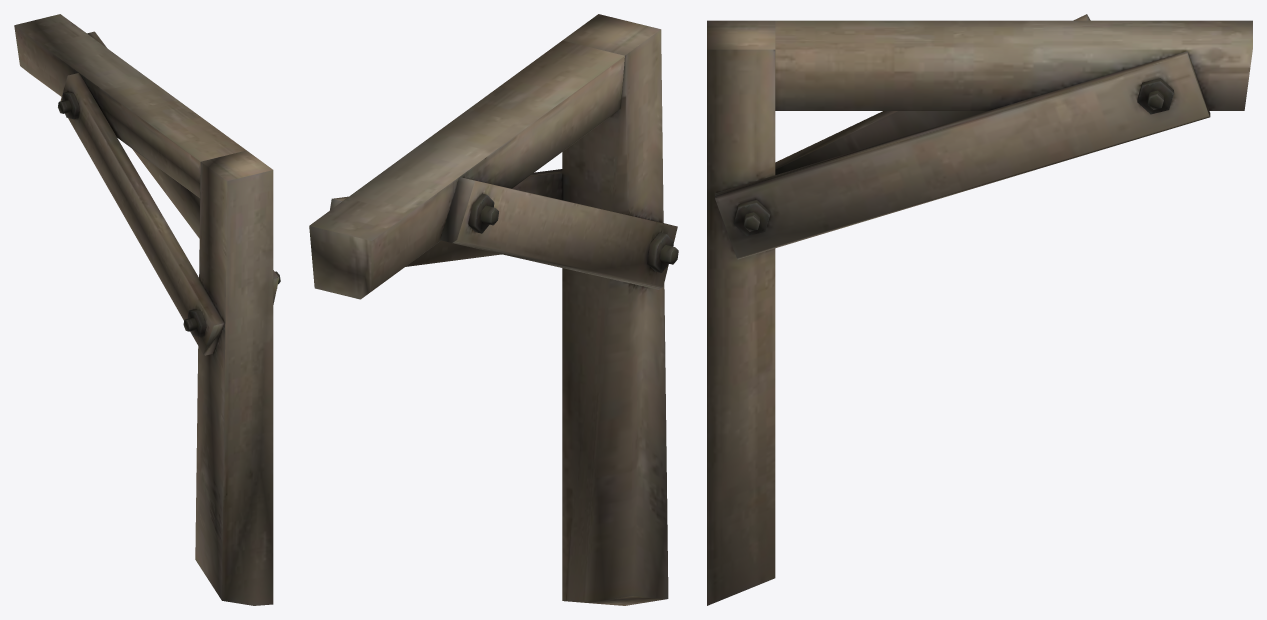
3 renders of one model, left to right at view 1: azimuth 30°, elevation 25°; view 2: azimuth 150°, elevation 25°; view 3: azimuth 270°, elevation 25°, orthographic. The views are drawn at different scales.
Visible parts, largest first — view 1: body0_model0_lod0_mesh0; view 2: body0_model0_lod0_mesh0; view 3: body0_model0_lod0_mesh0.
Part boxes in pixels (<box>): body0_model0_lod0_mesh0: <box>14,14,280,605</box>; body0_model0_lod0_mesh0: <box>309,14,678,605</box>; body0_model0_lod0_mesh0: <box>707,14,1252,605</box>.
Bounding box in the file's own units: 16.11 × 72 × 64.
1 material, 1 textured.
